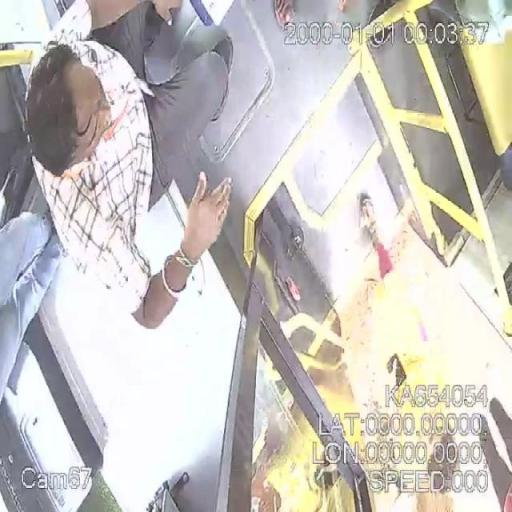persona: (25, 3, 235, 339), (349, 176, 512, 512)
